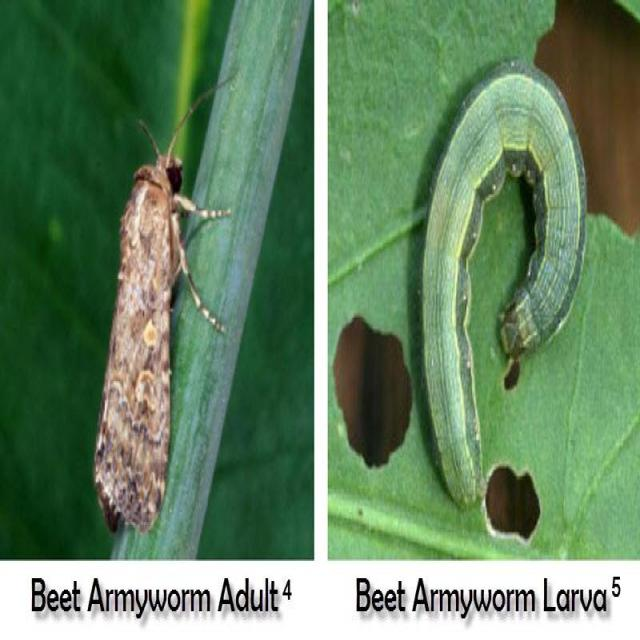armyworm: (421, 69, 592, 506), (103, 123, 212, 526)
